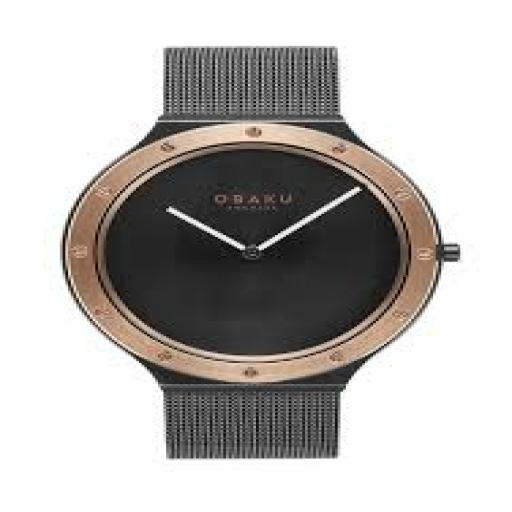KolSaati: (43, 31, 450, 468)
